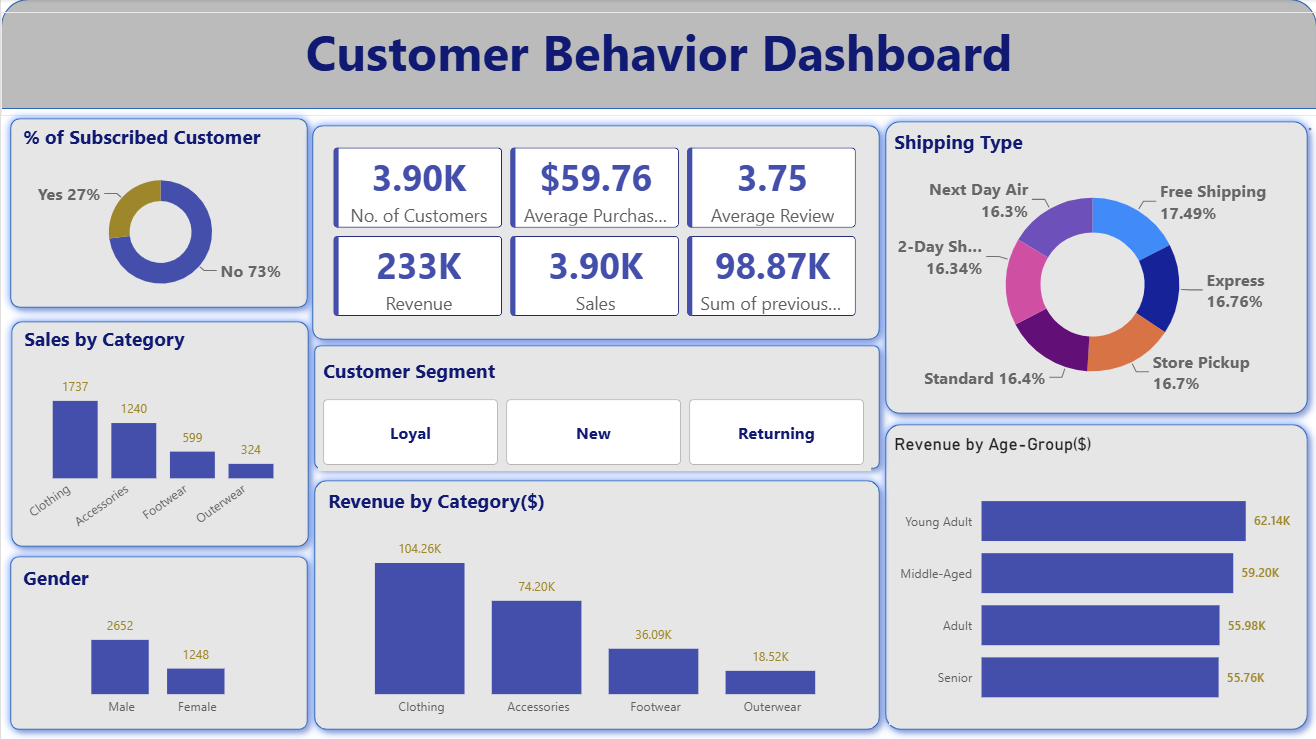

The page's visual inventory and layout, read from the dashboard file:
{"tool":"powerbi","page":{"name":"Page 1","canvas":[1280,720],"ordinal":0},"visuals":[{"type":"shape","box":[0,0,1280,107],"z":0},{"type":"textbox","box":[0,12.6,1280,101.2],"z":1000},{"type":"shape","box":[0,107,307.4,202.3],"z":2000},{"type":"donutChart","title":"% of Subscribed Customer","fields":{"Category":["customer shop.subscription_status"],"Y":["CountNonNull(customer shop.customer_id)"]},"box":[16.5,120.6,277.2,176],"z":3000},{"type":"shape","box":[1,304.4,307.4,237.3],"z":4000},{"type":"shape","box":[0,533,307.4,186.7],"z":5000},{"type":"lineClusteredColumnComboChart","title":"Sales by Category","fields":{"Category":["customer shop.category"],"Y":["CountNonNull(customer shop.purchase_amount)"]},"box":[17.5,317.1,277.2,209.1],"z":6000},{"type":"shape","box":[851.1,404.6,428.9,315.1],"z":7000},{"type":"shape","box":[293.7,113.8,570,226.6],"z":8000},{"type":"cardVisual","fields":{"Data":["customer shop.number of customer","customer shop.average purchase amount","customer shop.average review rating","Sum(customer shop.purchase_amount)","customer shop.sales","Sum(customer shop.previous_purchases)"]},"box":[307.4,128.4,543.7,199.4],"z":9000},{"type":"shape","box":[851.1,109.9,428.9,294.7],"z":10000},{"type":"donutChart","title":"Shipping Type","fields":{"Category":["customer shop.shipping_type"],"Y":["Sum(customer shop.purchase_amount)"]},"box":[863.7,125.5,395.9,268.4],"z":11000},{"type":"clusteredBarChart","title":"Revenue by Age-Group($)","fields":{"Y":["Sum(customer shop.purchase_amount)"],"Category":["customer shop.age_group"]},"box":[863.7,423.1,395.9,283],"z":12000},{"type":"shape","box":[295.7,459.1,568,260.7],"z":13000},{"type":"lineClusteredColumnComboChart","title":"Revenue by Category($)","fields":{"Category":["customer shop.category"],"Y":["Sum(customer shop.purchase_amount)"]},"box":[313.2,474.7,533,231.5],"z":14000},{"type":"lineClusteredColumnComboChart","title":"Gender","fields":{"Category":["customer shop.gender"],"Y":["CountNonNull(customer shop.customer_id)"]},"box":[16.5,549.5,275.3,156.6],"z":15000},{"type":"shape","box":[295.7,327.8,568,138.1],"z":15002},{"type":"advancedSlicerVisual","title":"Customer Segment","fields":{"Values":["customer shop.customer_segment"]},"box":[309.3,341.4,537.9,110.9],"z":15003}]}

Visuals, with their boxes in screenshot pixels (x1, y1, x2, y2), scaled from the page's 1280x720 canvas onto the 1316x739 screenshot:
shape: bbox=[0, 0, 1315, 110]
textbox: bbox=[0, 13, 1315, 117]
shape: bbox=[0, 110, 316, 317]
"% of Subscribed Customer" donutChart: bbox=[17, 124, 302, 304]
shape: bbox=[1, 312, 317, 556]
shape: bbox=[0, 547, 316, 738]
"Sales by Category" lineClusteredColumnComboChart: bbox=[18, 325, 303, 540]
shape: bbox=[875, 415, 1315, 738]
shape: bbox=[302, 117, 888, 349]
cardVisual - customer shop.number of customer x customer shop.average purchase amount: bbox=[316, 132, 875, 336]
shape: bbox=[875, 113, 1315, 415]
"Shipping Type" donutChart: bbox=[888, 129, 1295, 404]
"Revenue by Age-Group($)" clusteredBarChart: bbox=[888, 434, 1295, 725]
shape: bbox=[304, 471, 888, 738]
"Revenue by Category($)" lineClusteredColumnComboChart: bbox=[322, 487, 870, 725]
"Gender" lineClusteredColumnComboChart: bbox=[17, 564, 300, 725]
shape: bbox=[304, 336, 888, 478]
"Customer Segment" advancedSlicerVisual: bbox=[318, 350, 871, 464]
